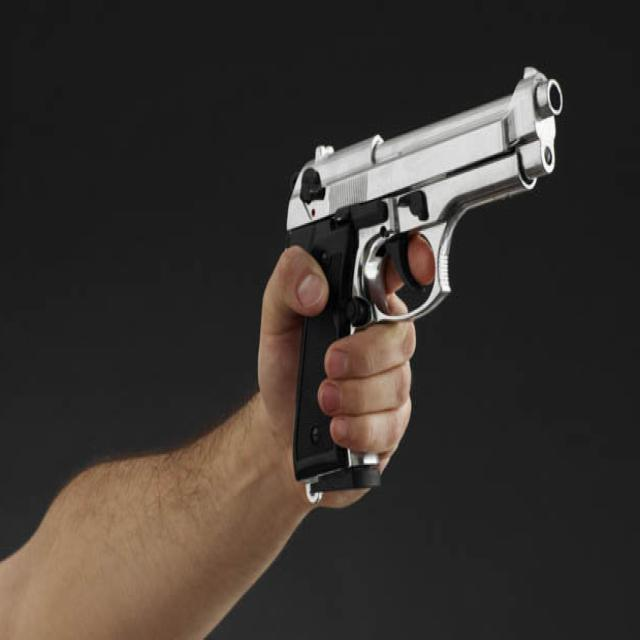pistol: (294, 53, 572, 494)
